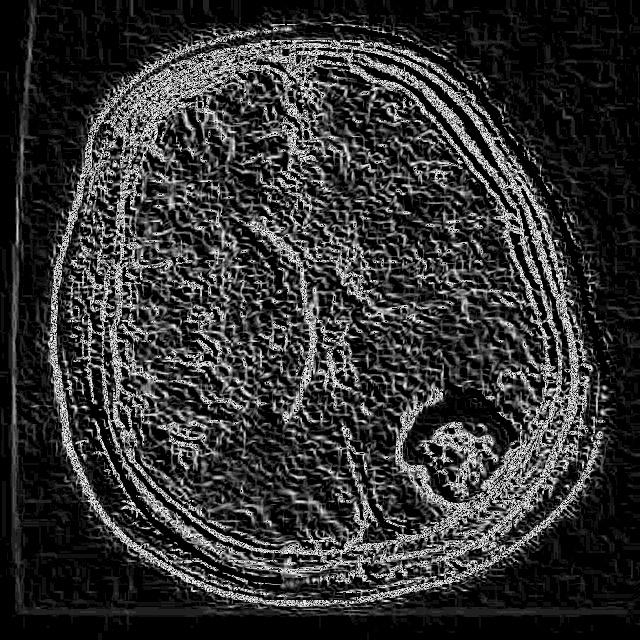Brain-Tumor: (380, 364, 548, 520)
